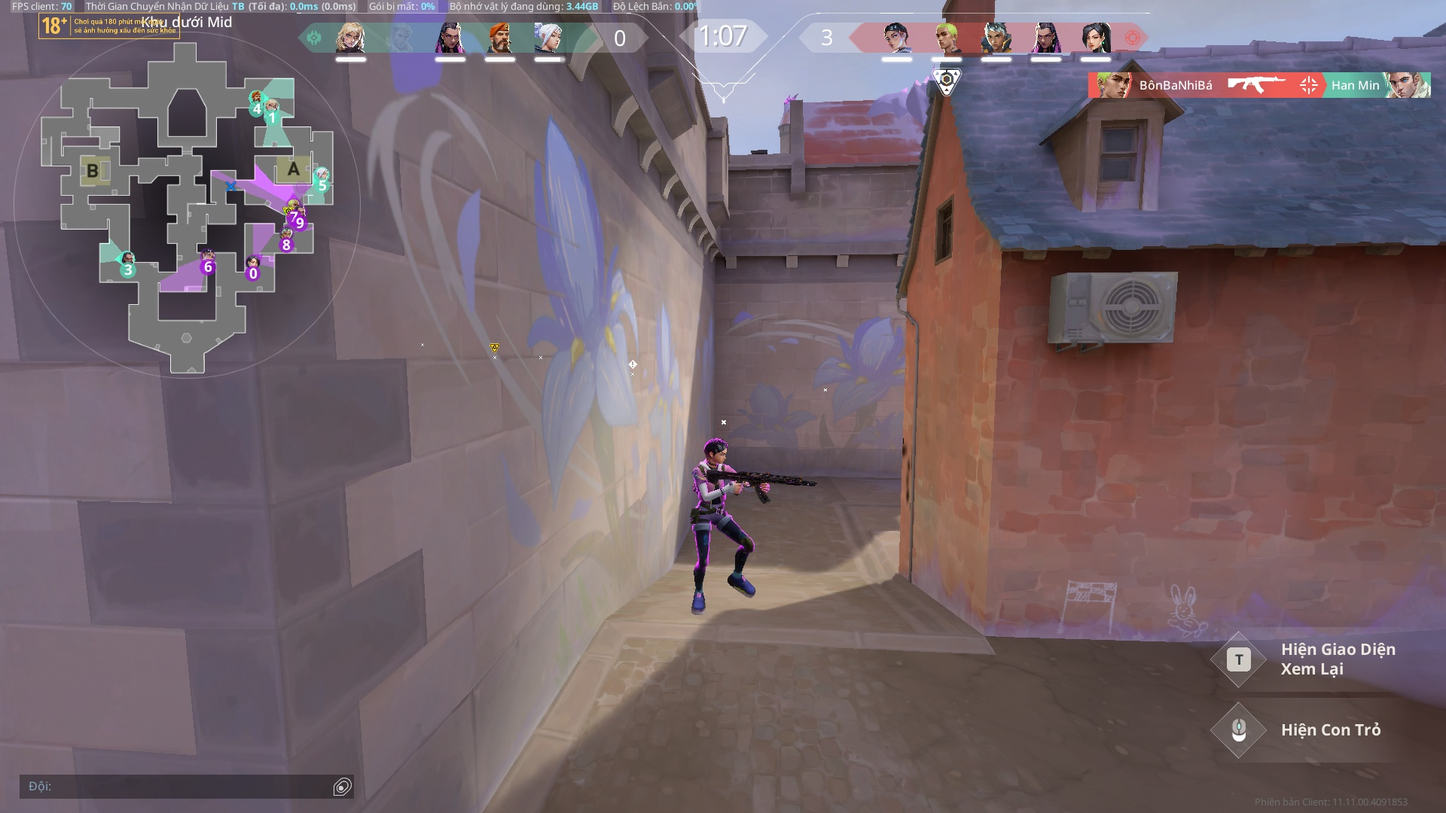body: (691, 461, 729, 504)
head: (705, 438, 730, 464)
